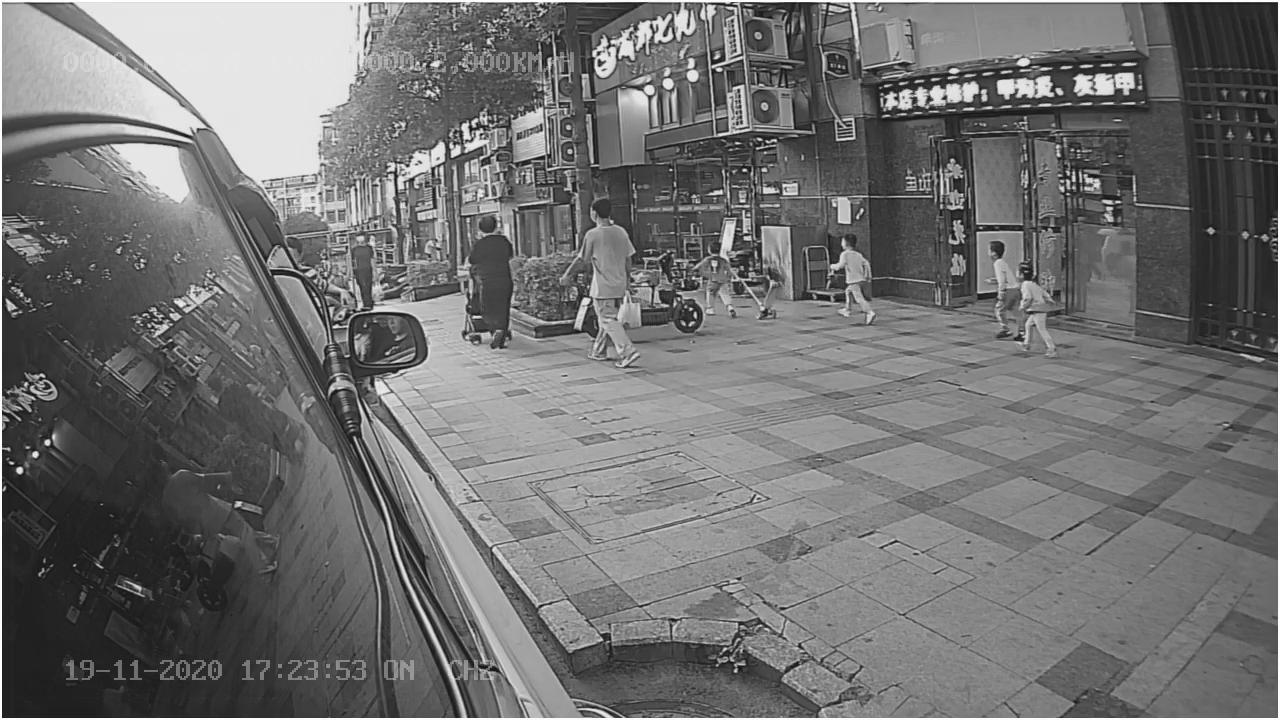person: (563, 199, 642, 375), (465, 210, 511, 349), (830, 230, 880, 323), (977, 238, 1019, 346), (1017, 262, 1061, 357), (699, 239, 738, 320)
